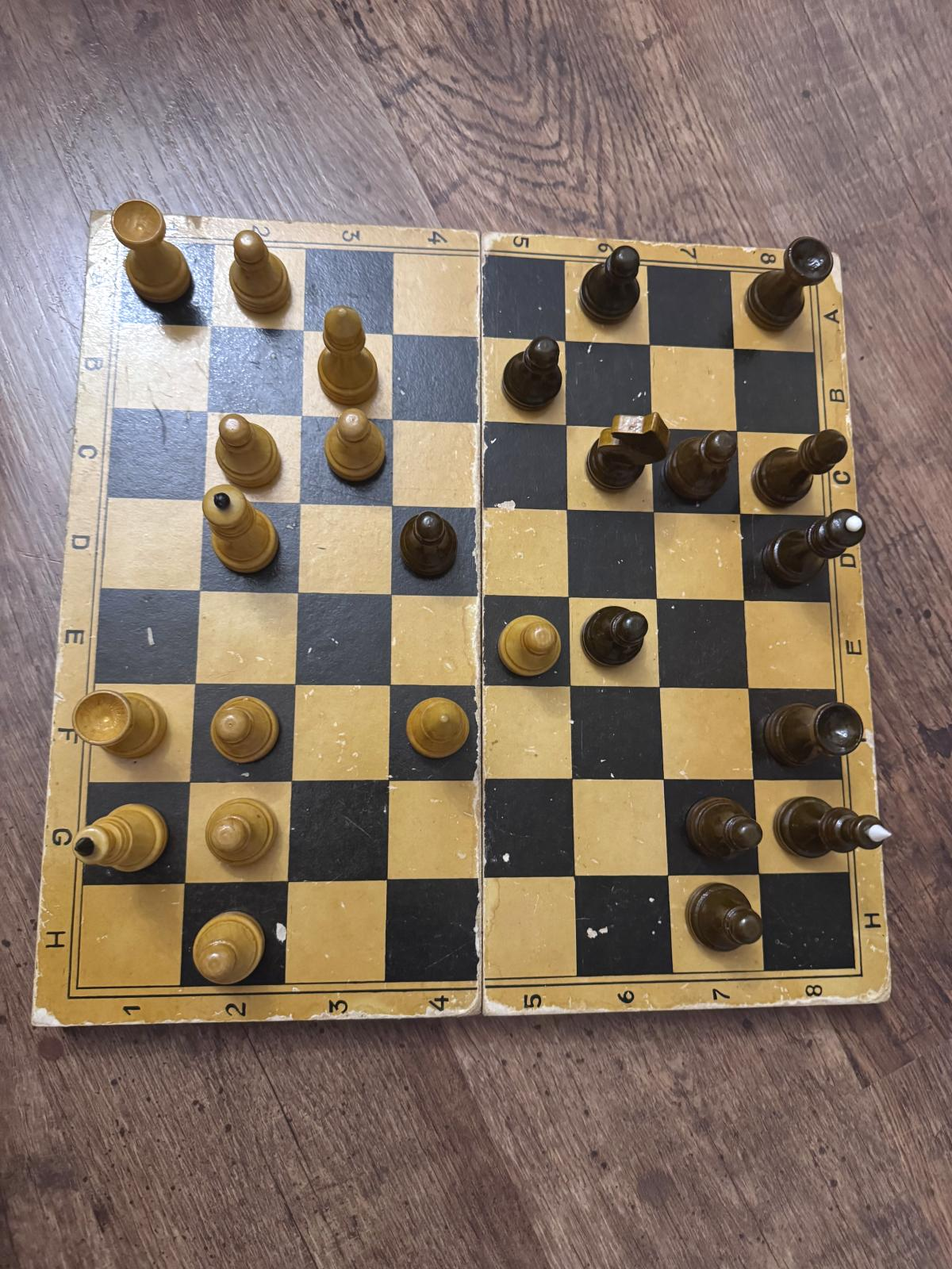Chess-Board: (78, 240, 854, 989)
